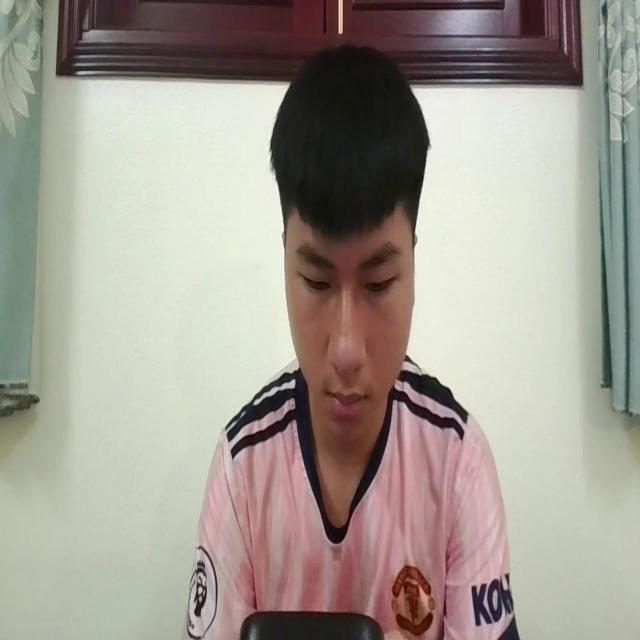phone: (242, 597, 384, 640)
student: (182, 42, 522, 640)
